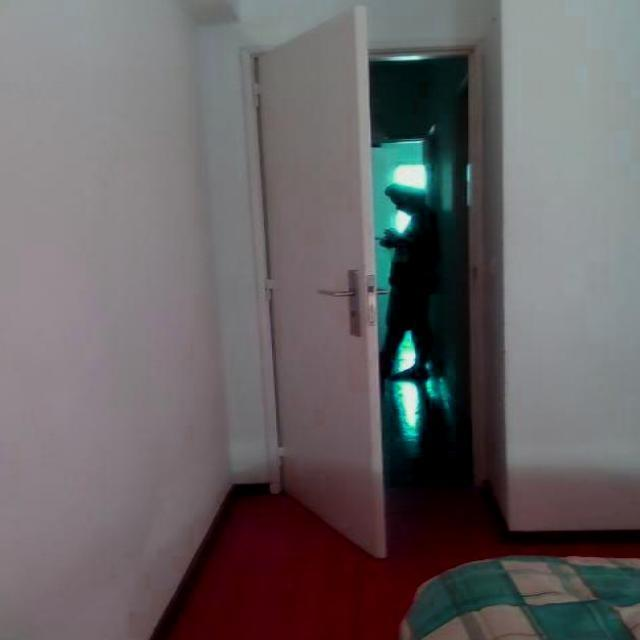door: (252, 4, 388, 559)
